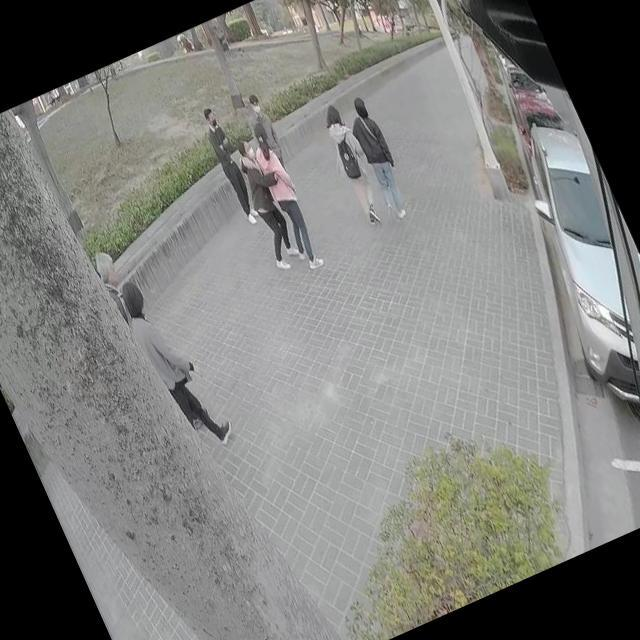person: (116, 269, 234, 456), (247, 124, 324, 270), (223, 136, 301, 272), (312, 101, 390, 227), (342, 94, 416, 222), (196, 104, 264, 226), (90, 245, 134, 314), (243, 91, 275, 137)
